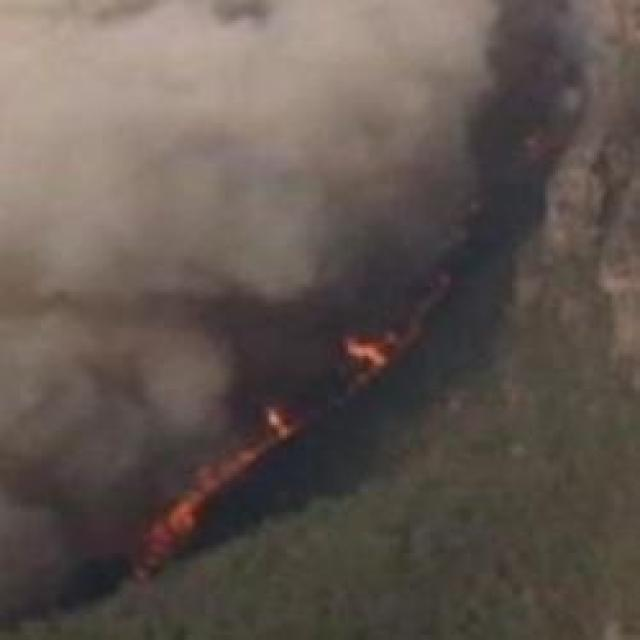Fire: (318, 310, 424, 397), (226, 398, 300, 481), (140, 464, 185, 544)
Smoke: (191, 6, 510, 254), (0, 0, 173, 433)
